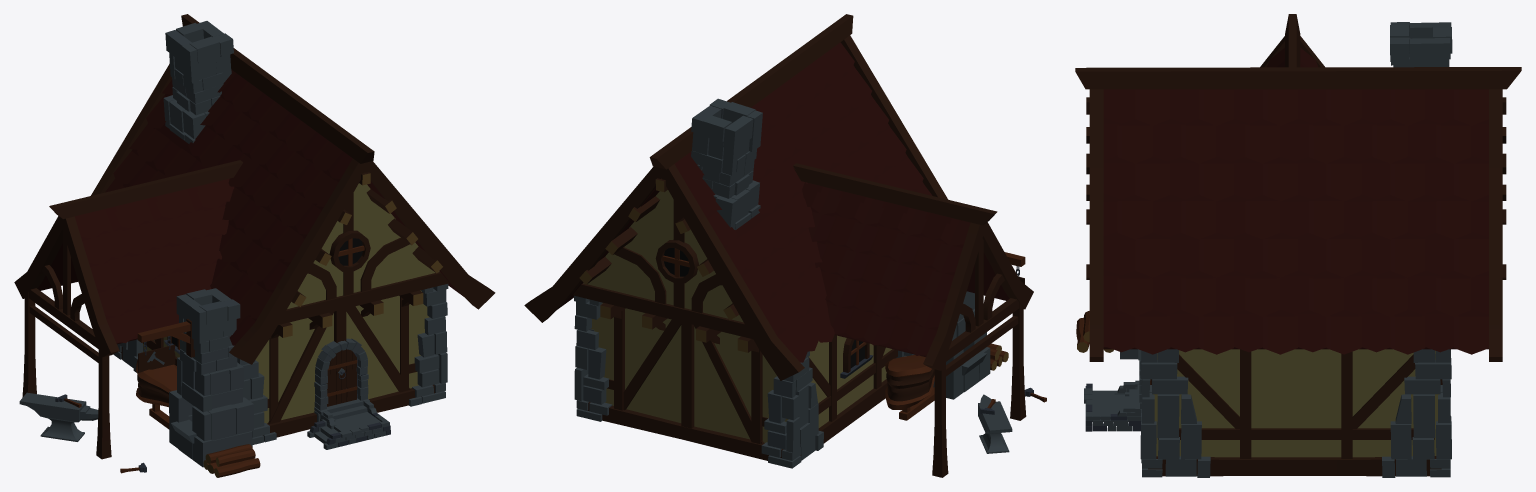
File: Blacksmith.obj
3 renders of one model, left to right at view 1: azimuth 30°, elevation 25°; view 2: azimuth 150°, elevation 25°; view 3: azimuth 270°, elevation 25°, orthographic. The views are drawn at different scales.
Visible parts, largest first — view 1: Blacksmith; view 2: Blacksmith; view 3: Blacksmith.
Boxes of the visible parts, x1,y1,x2,y2 form: Blacksmith: [14, 14, 495, 477]; Blacksmith: [524, 14, 1046, 477]; Blacksmith: [1075, 14, 1521, 477].
Bounding box in the file's own units: 1.3 × 1 × 1.09.
